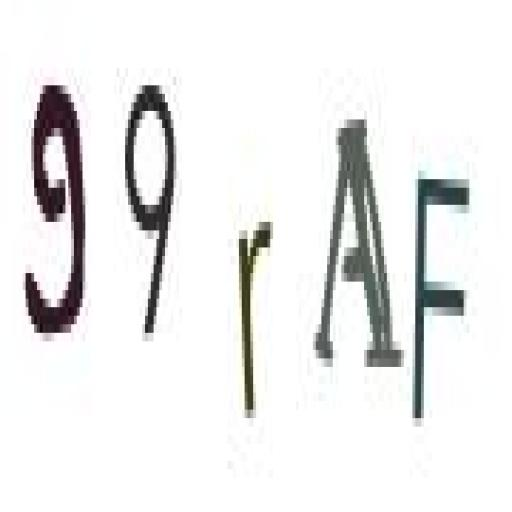9: (21, 60, 93, 363), (118, 62, 184, 350)
A: (308, 98, 410, 398)
F: (410, 139, 476, 439)
r: (230, 202, 277, 440)
